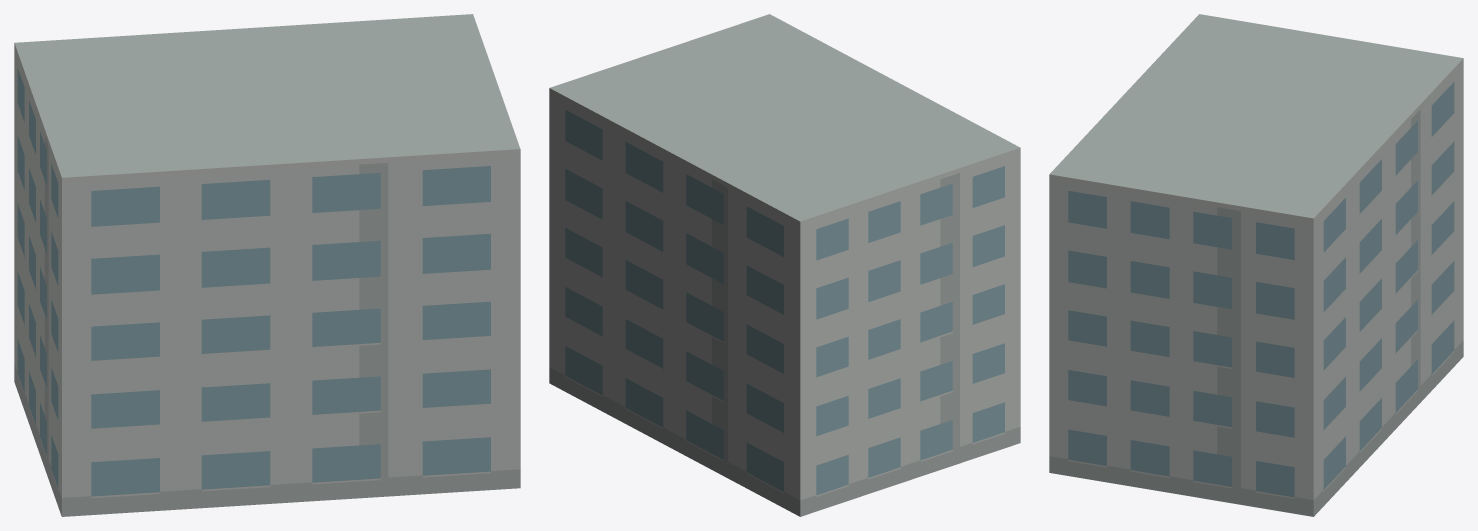
The model's file is residential-4102fbd4-2e4c-4460-bd2e-bd4d52d2262e.glb.
3 renders of one model, left to right at view 1: azimuth 30°, elevation 25°; view 2: azimuth 150°, elevation 25°; view 3: azimuth 270°, elevation 25°, orthographic. The views are drawn at different scales.
Visible parts, largest first — view 1: residential-4102fbd4-2e4c-4460-bd2e-bd4d52d2262e.tmp; view 2: residential-4102fbd4-2e4c-4460-bd2e-bd4d52d2262e.tmp; view 3: residential-4102fbd4-2e4c-4460-bd2e-bd4d52d2262e.tmp.
Part boxes in pixels (left/top/right/bottom): residential-4102fbd4-2e4c-4460-bd2e-bd4d52d2262e.tmp: left=14, top=14, right=520, bottom=516; residential-4102fbd4-2e4c-4460-bd2e-bd4d52d2262e.tmp: left=549, top=14, right=1020, bottom=516; residential-4102fbd4-2e4c-4460-bd2e-bd4d52d2262e.tmp: left=1049, top=14, right=1463, bottom=516.
Bounding box in the file's own units: 22.42 × 15.25 × 19.2.
